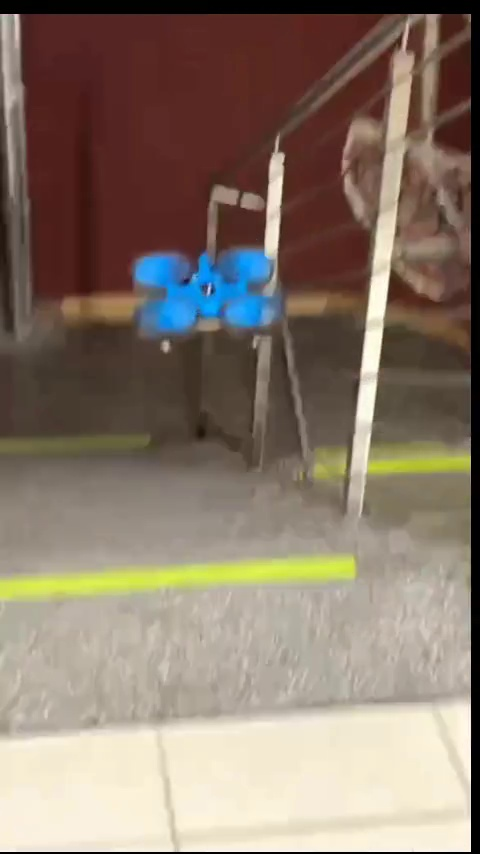drone: (124, 253, 289, 349)
